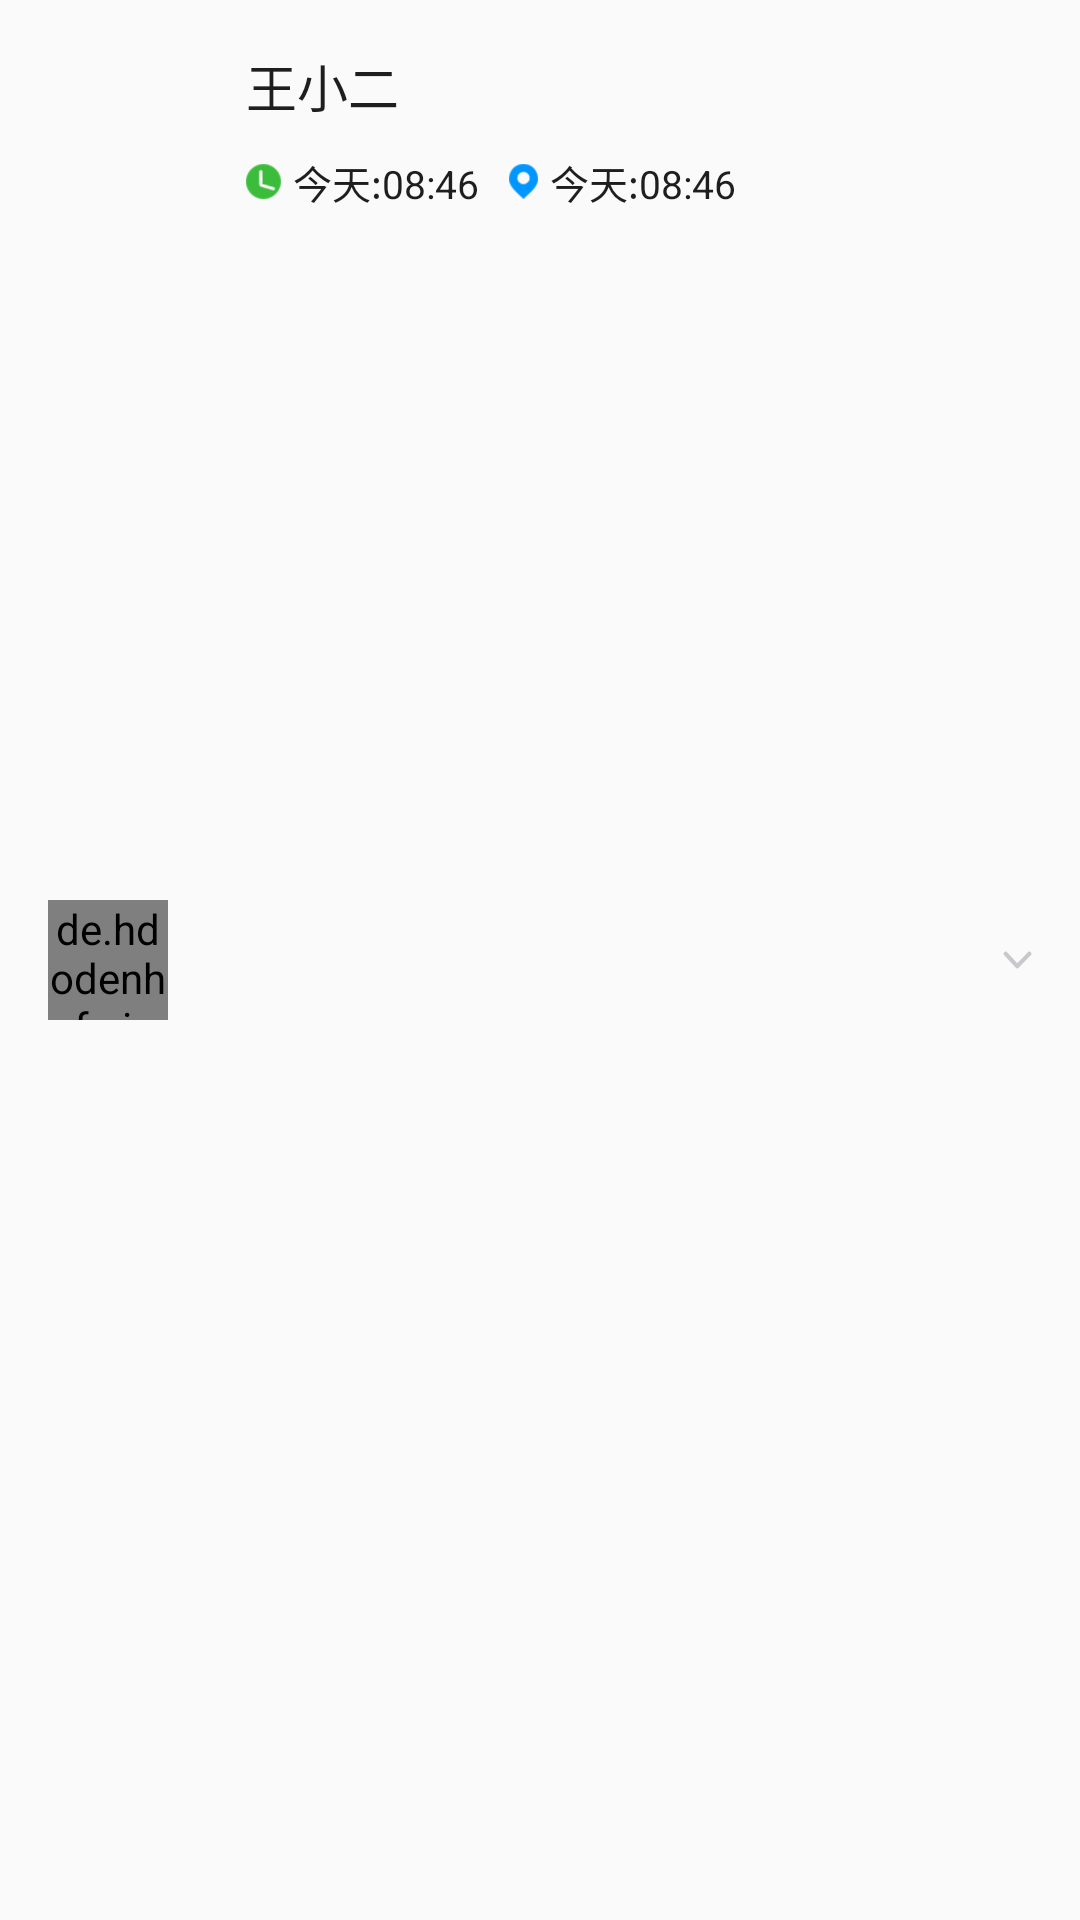

Point at icon controls on the screen. Image size 1080w x 1920h, points as [x,y].
item down: [1017,960]
